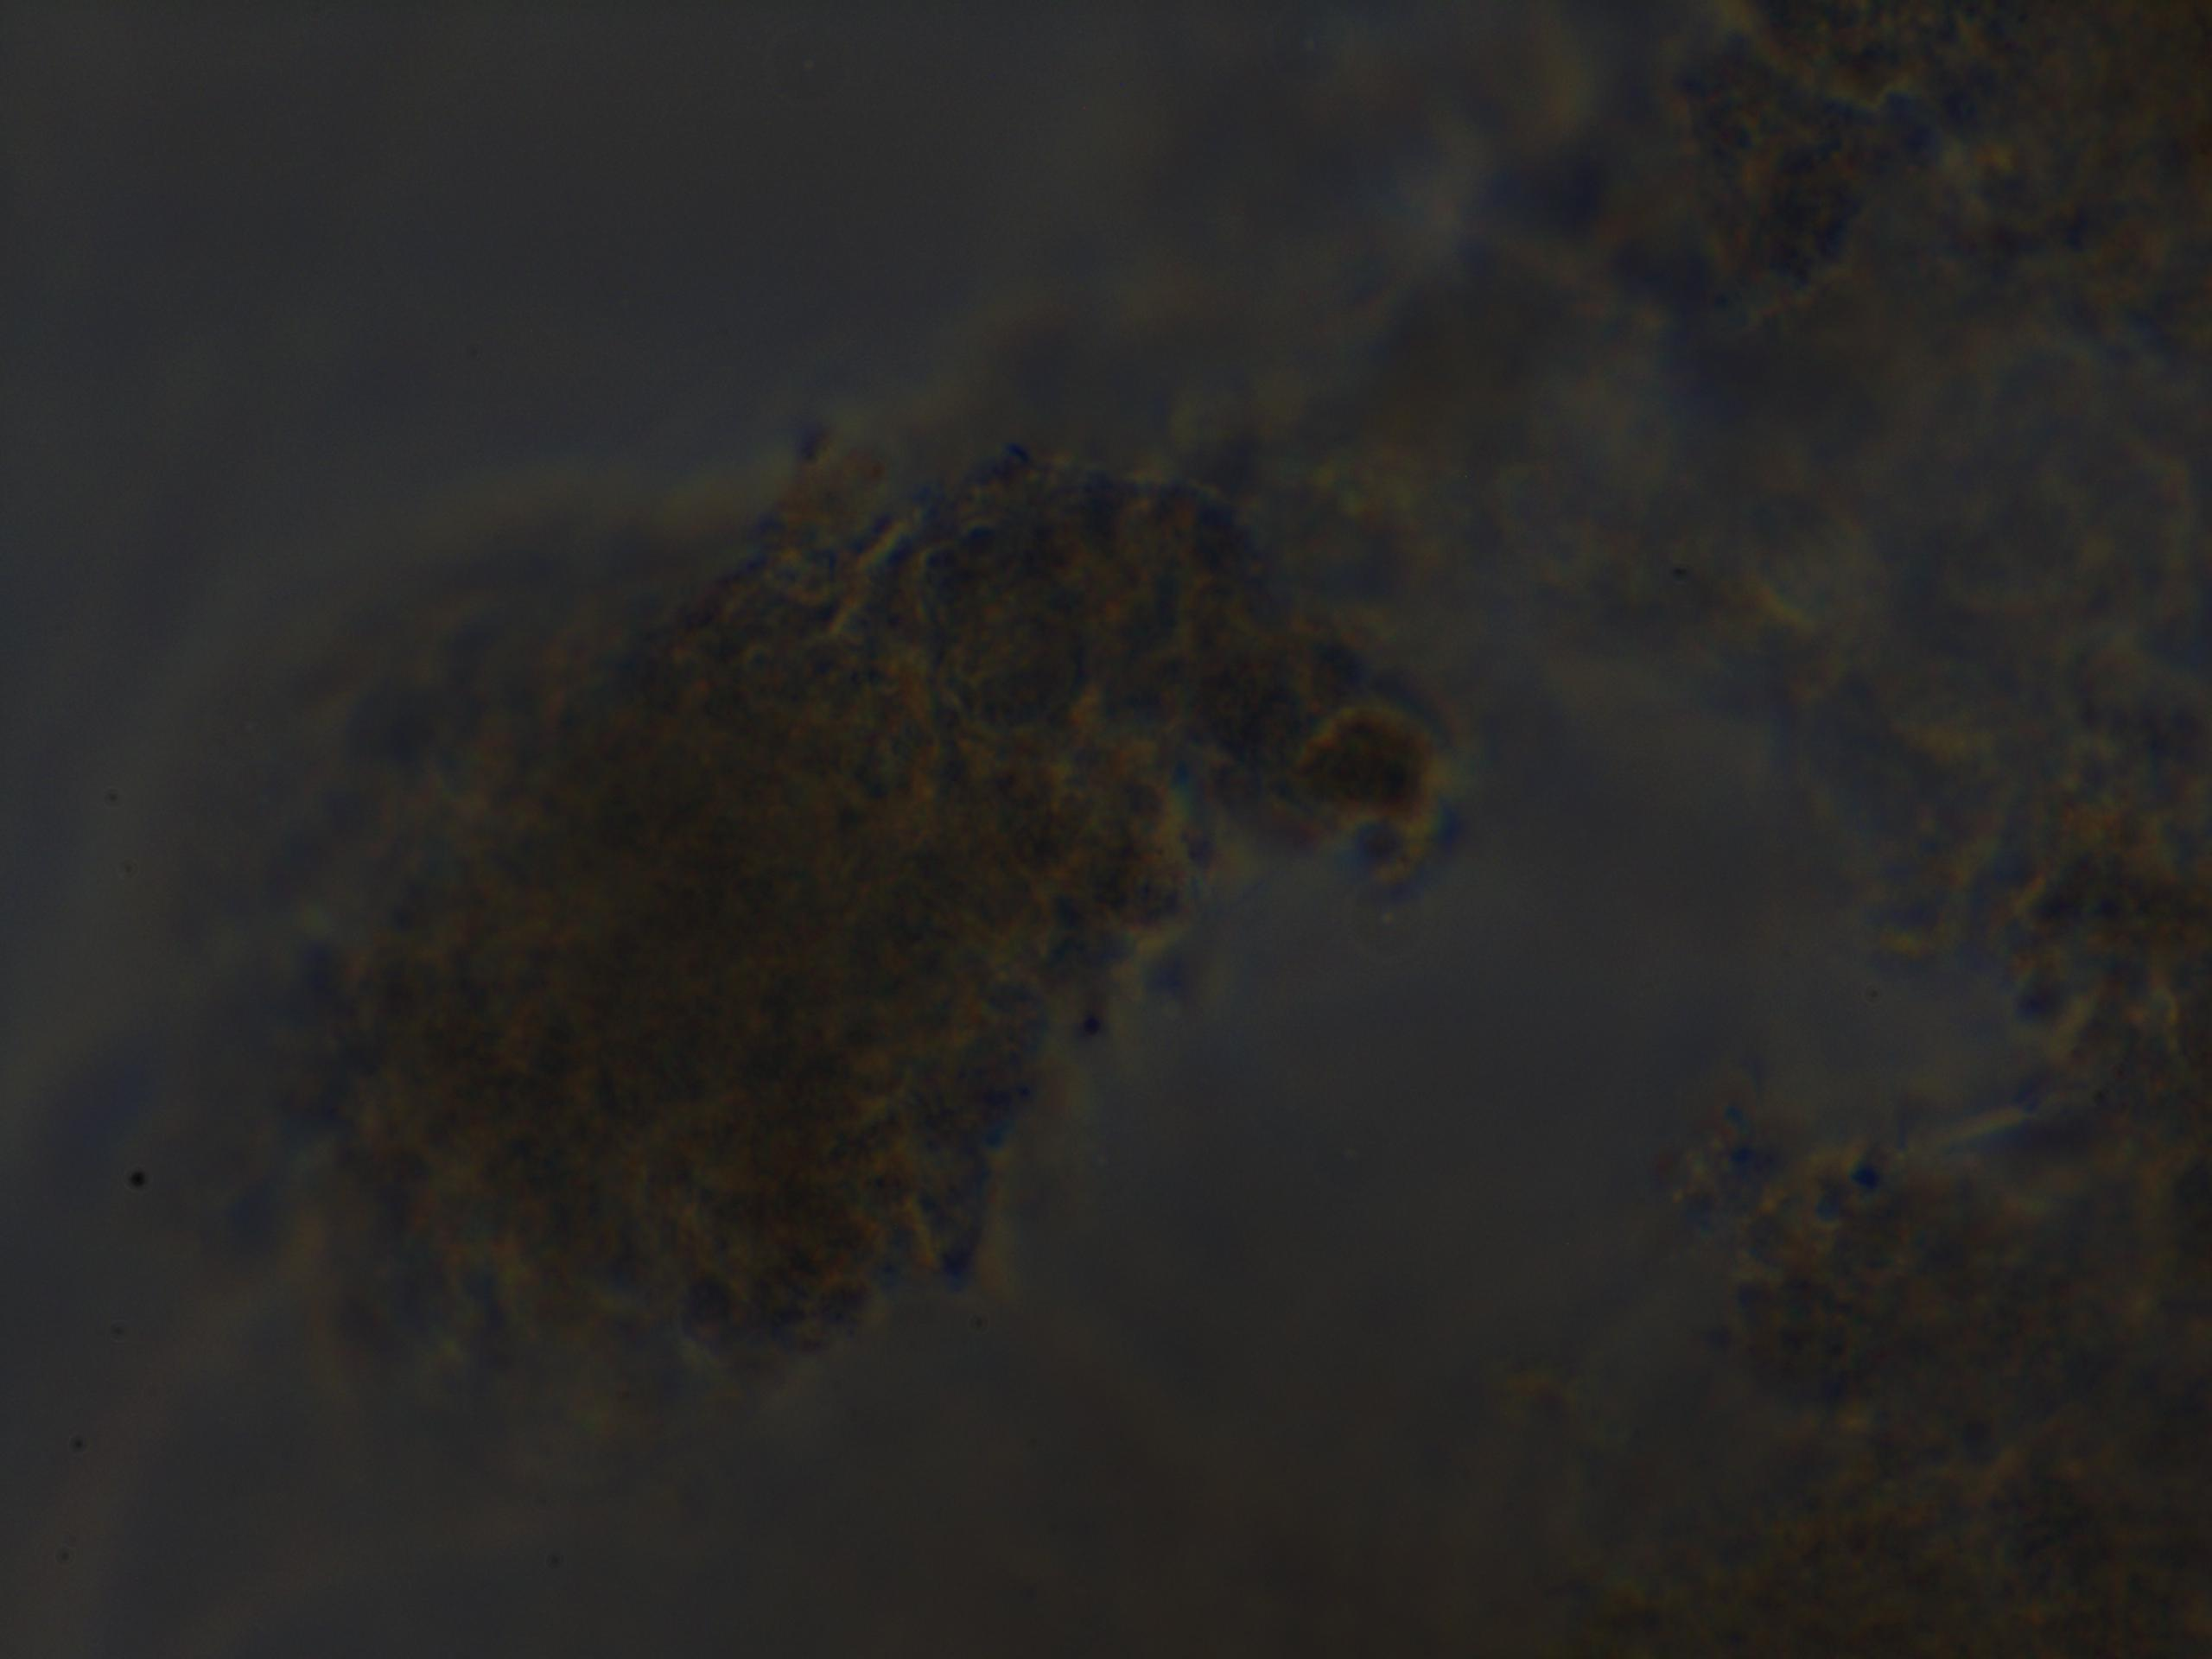spherical_floc: (347, 429, 1451, 1403)
